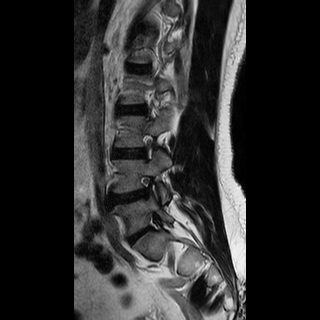RFS1: (133, 128, 160, 166)
RFS2: (135, 169, 161, 205)
